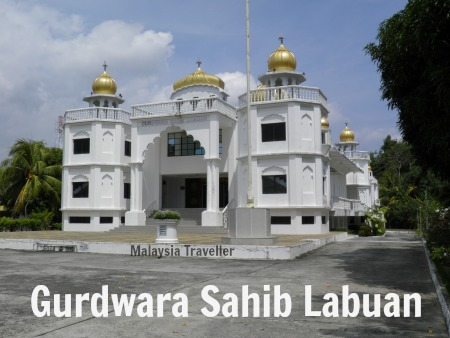Gurdwara: (70, 31, 348, 253)
